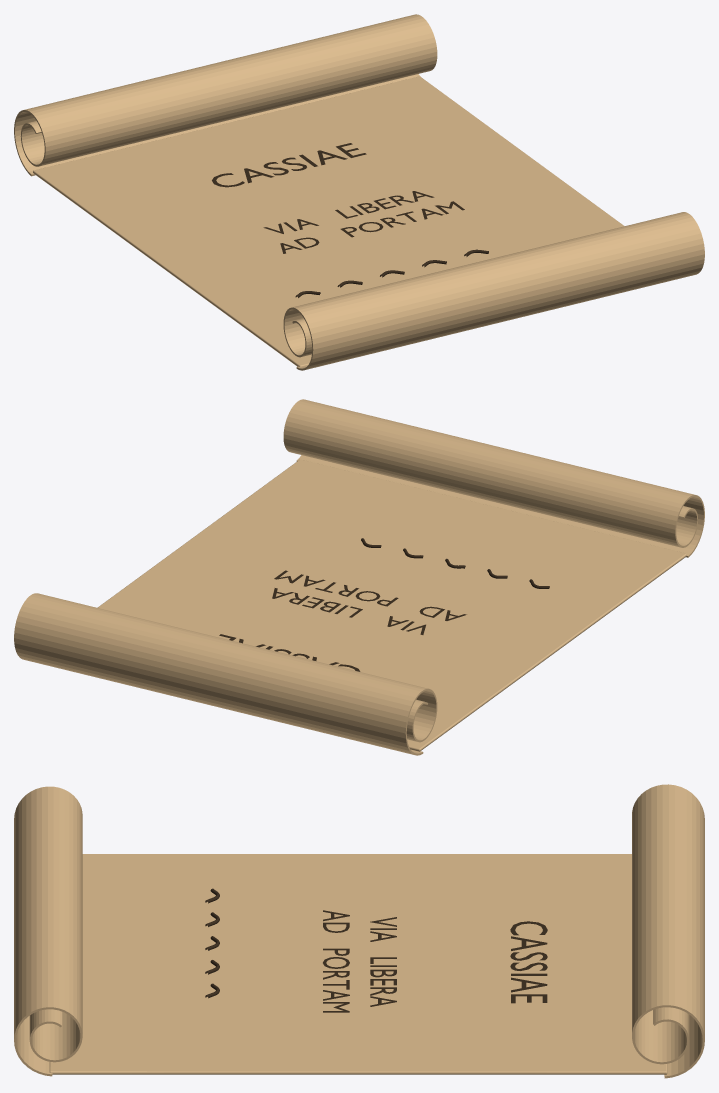
File: gate_letter.glb
3 views of the same model, one above another, from view 1: azimuth 30°, elevation 25°; view 2: azimuth 150°, elevation 25°; view 3: azimuth 270°, elevation 25° (orthographic). The views are drawn at different scales.
Parts seen in each view (by area): view 1: Message sheet, Rolled edge, Rolled edge.001, Notice, Addressee; view 2: Message sheet, Rolled edge.001, Rolled edge, Notice; view 3: Message sheet, Rolled edge.001, Rolled edge, Notice, Addressee.
Boxes of the visible parts, x1,y1,x2,y2 form: Message sheet: (33,76,624,366); Rolled edge: (283,212,704,370); Rolled edge.001: (14,14,437,176); Notice: (263,191,464,253); Addressee: (212,143,366,187); Message sheet: (97,459,686,751); Rolled edge.001: (14,593,437,755); Rolled edge: (283,399,704,557); Notice: (272,570,466,634); Message sheet: (49,854,667,1074); Rolled edge.001: (632,784,704,1078); Rolled edge: (14,786,82,1076); Notice: (323,910,396,1012); Addressee: (510,921,547,1003).
Size of the model in its own units: 0.186 by 0.0288 by 0.246.
